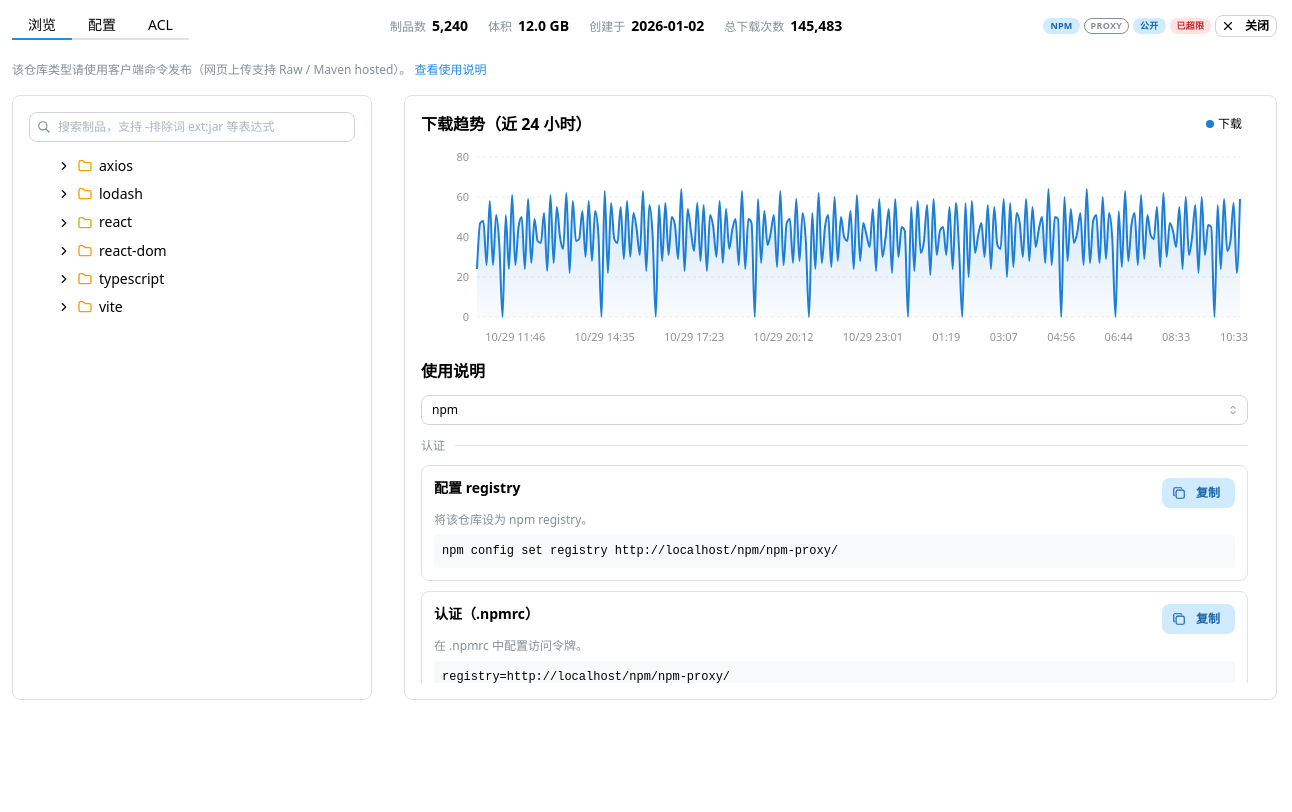
Scenario: 仓库详情 › proxy 仓库配置 tab 显示连接状态并支持手动重测
Click the tab "配置". click: coordinates (102, 26)
box: 72,12 -> 132,40
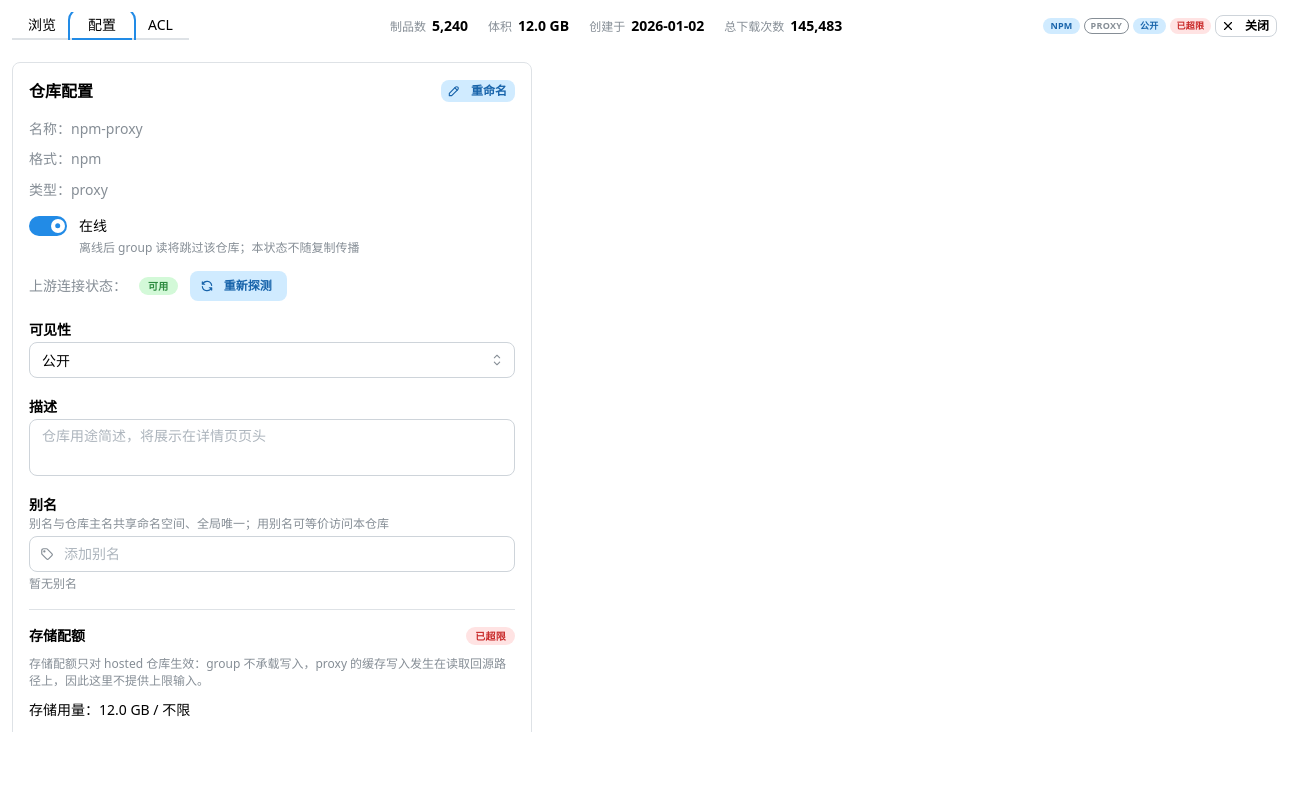
Expected: the text "可用" is shown, 148,278 -> 168,294
Expected: the button "重新探测" is shown
Click the button "重新探测". click: coordinates (238, 286)
box: 190,271 -> 287,301
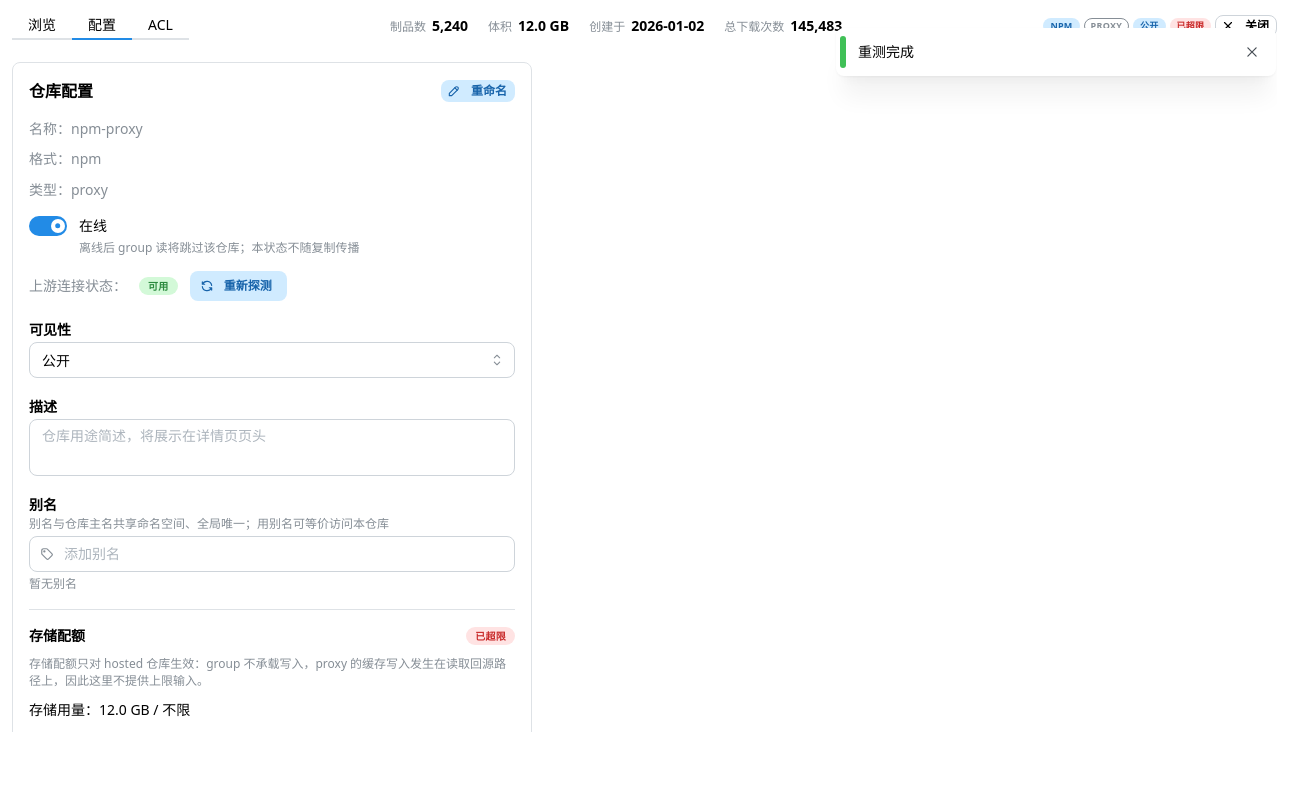
Expected: the text "可用" is shown, 148,278 -> 168,294
Expected: the text "重测完成" is shown, 858,42 -> 914,61
